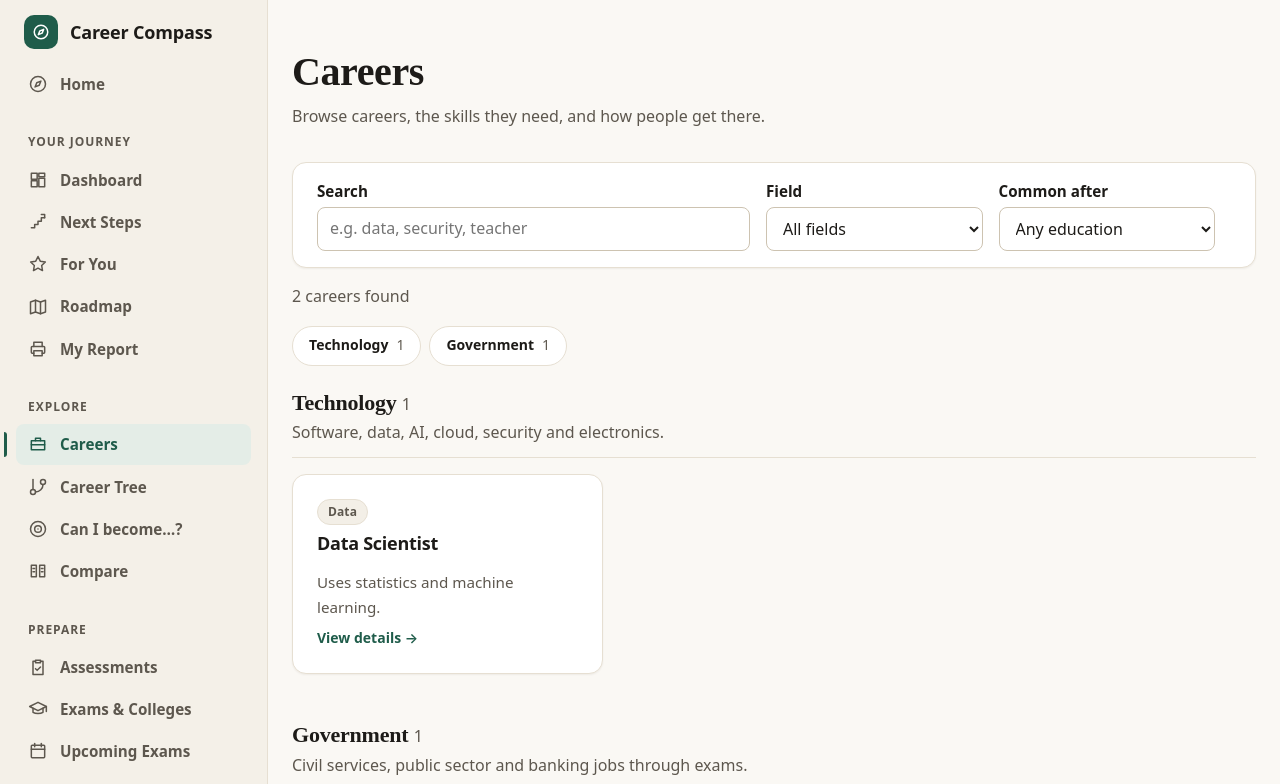
Test: Careers directory › typing searches after a short pause
expect the heading "Data Scientist" is shown: met, box left=317, top=531, right=438, bottom=555
Type "secu" into the search field labelled "Search". click: (534, 229)
box: left=317, top=207, right=750, bottom=251
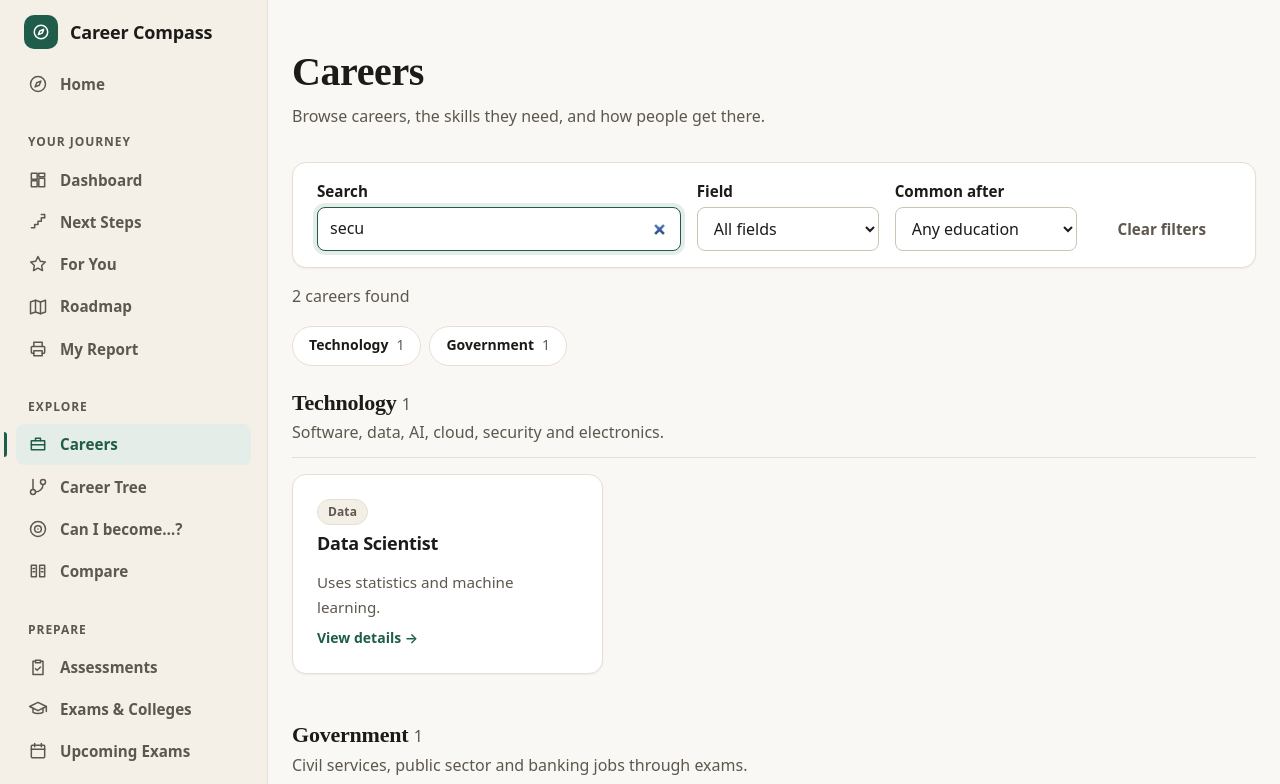
Select "Government" in the dropdown labelled "Field". click: (788, 229)
box: left=697, top=207, right=879, bottom=251
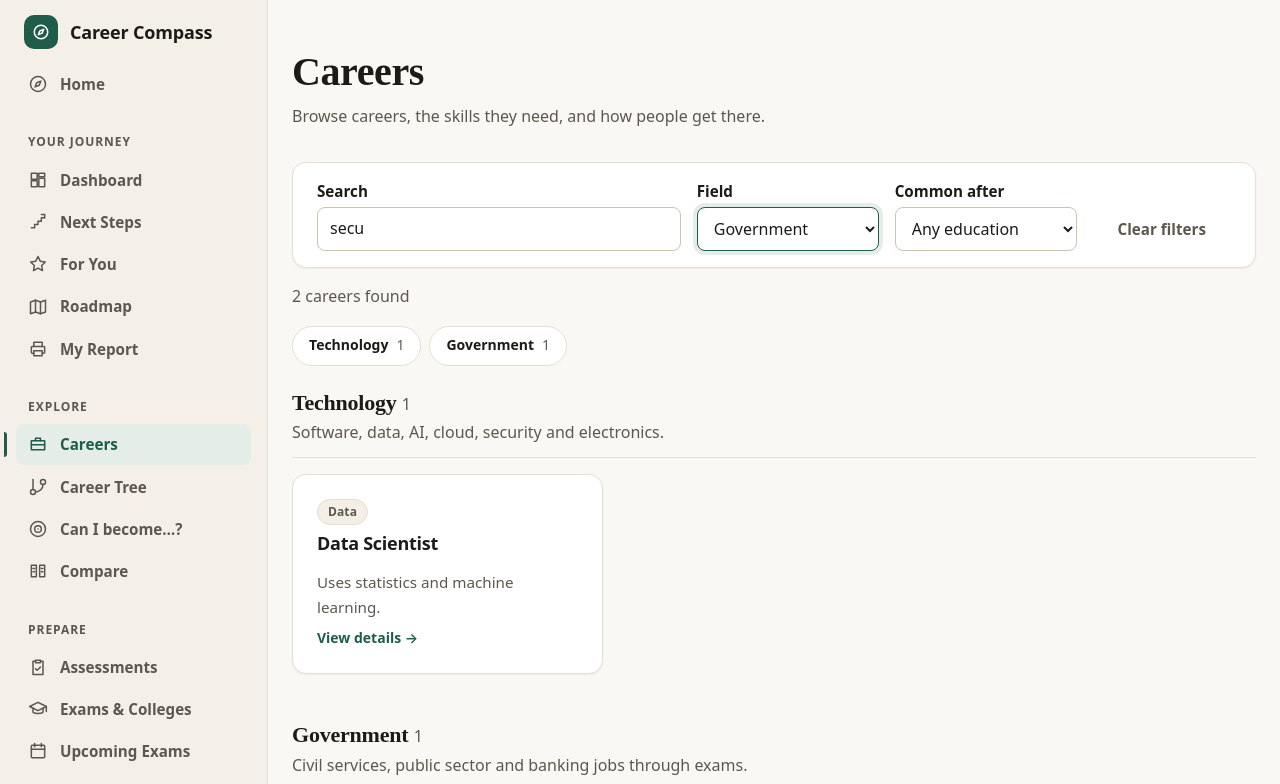
Click the button "Clear filters". click: click(1162, 229)
box: left=1092, top=207, right=1231, bottom=251
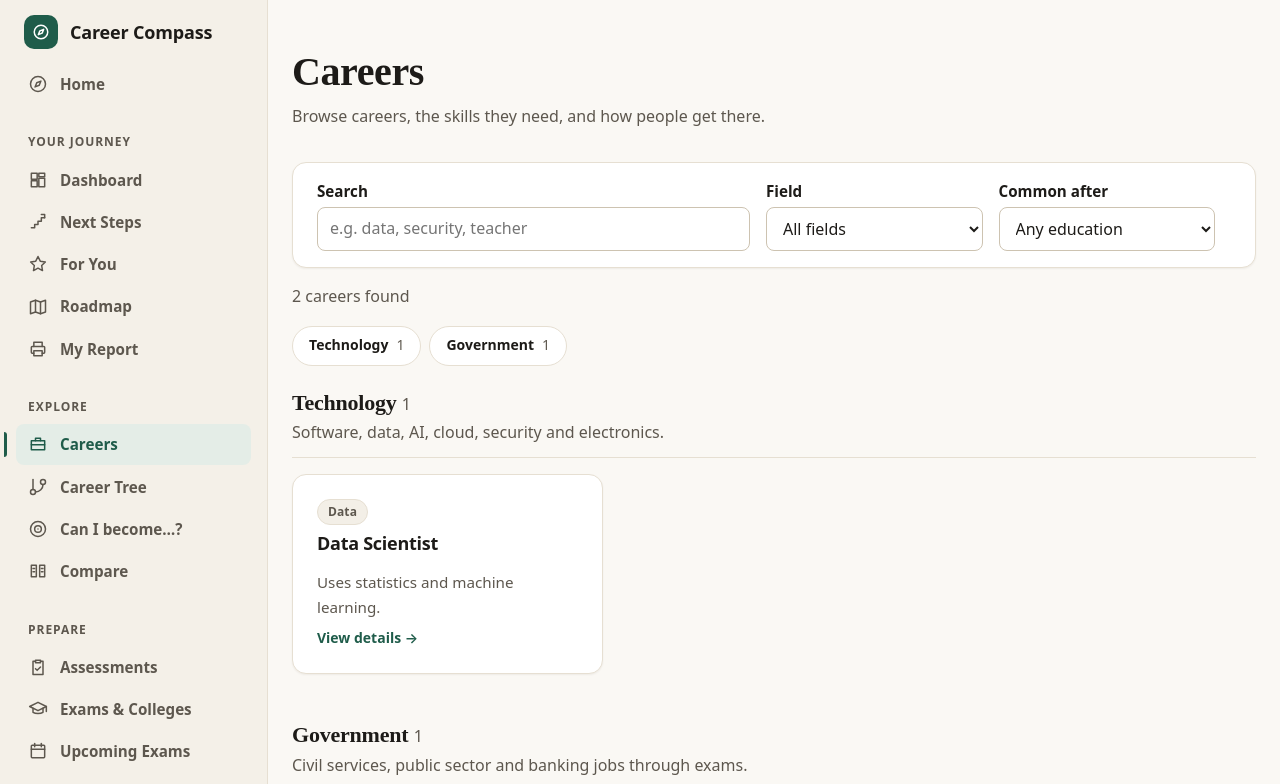
expect the search field labelled "Search" is empty: met, box left=317, top=207, right=750, bottom=251
